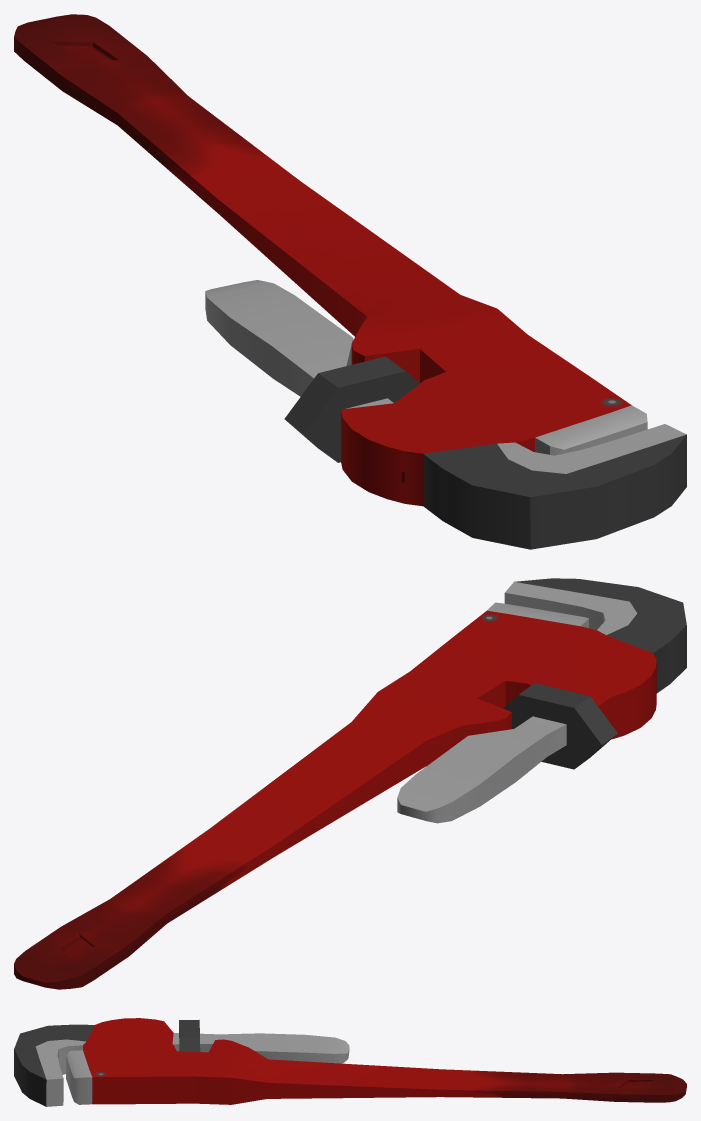
File: Wrench.glb
The picture shows the model from 3 angles, top to bottom: view 1: azimuth 30°, elevation 25°; view 2: azimuth 150°, elevation 25°; view 3: azimuth 270°, elevation 25°; orthographic projection. The views are drawn at different scales.
Parts seen in each view (by area): view 1: Cube; view 2: Cube; view 3: Cube.
Boxes of the visible parts, x1,y1,x2,y2 form: Cube: [14, 14, 686, 549]; Cube: [14, 578, 686, 989]; Cube: [14, 1018, 686, 1106].
Bounding box in the file's own units: 0.1053 × 0.0286 × 0.4445.
3 materials, 1 textured.
